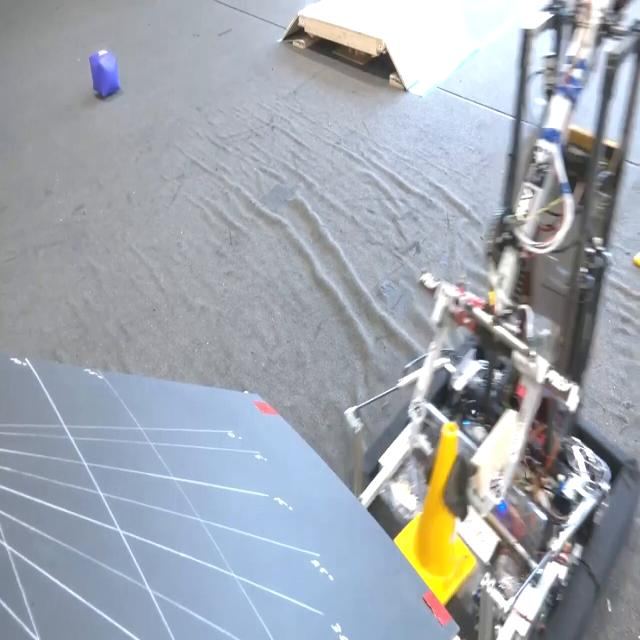frc_cone: (399, 421, 466, 601)
frc_cube: (84, 48, 121, 98)
